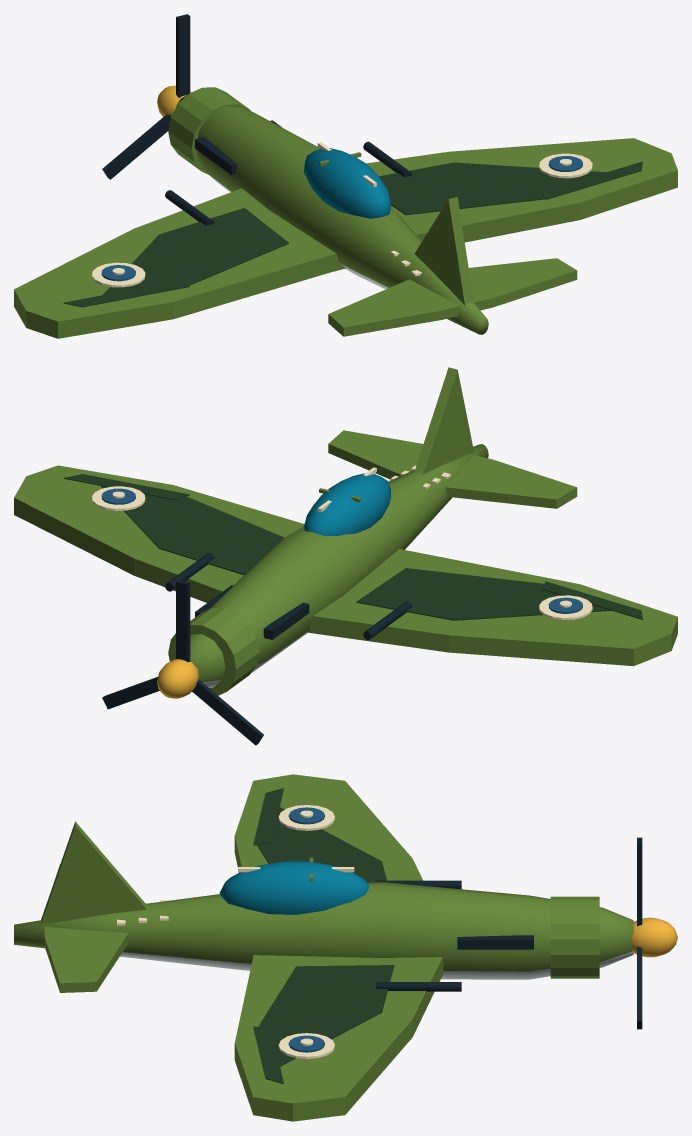
Rendered from falcon.glb.
3 views of the same model, one above another, from view 1: azimuth 30°, elevation 25°; view 2: azimuth 150°, elevation 25°; view 3: azimuth 270°, elevation 25° (orthographic). The views are drawn at different scales.
Parts seen in each view (by area): view 1: falcon-airframe, blade_0_0, blade_0_2; view 2: falcon-airframe, blade_0_2, blade_0_0, blade_0_1; view 3: falcon-airframe, blade_0_0.
Boxes of the visible parts, x1,y1,x2,y2 form: falcon-airframe: [14, 85, 677, 338]; blade_0_0: [176, 14, 190, 97]; blade_0_2: [102, 114, 170, 179]; falcon-airframe: [14, 367, 677, 698]; blade_0_2: [192, 679, 263, 745]; blade_0_0: [176, 580, 190, 662]; blade_0_1: [102, 677, 159, 709]; falcon-airframe: [14, 774, 677, 1121]; blade_0_0: [637, 837, 642, 926].
Size of the model in its own units: 2.54 by 0.6041 by 2.17.
